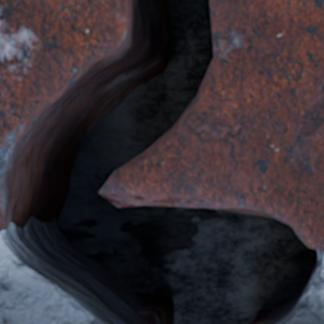broken_brick: (104, 0, 323, 253), (0, 0, 125, 228)
crack: (0, 0, 322, 323)
